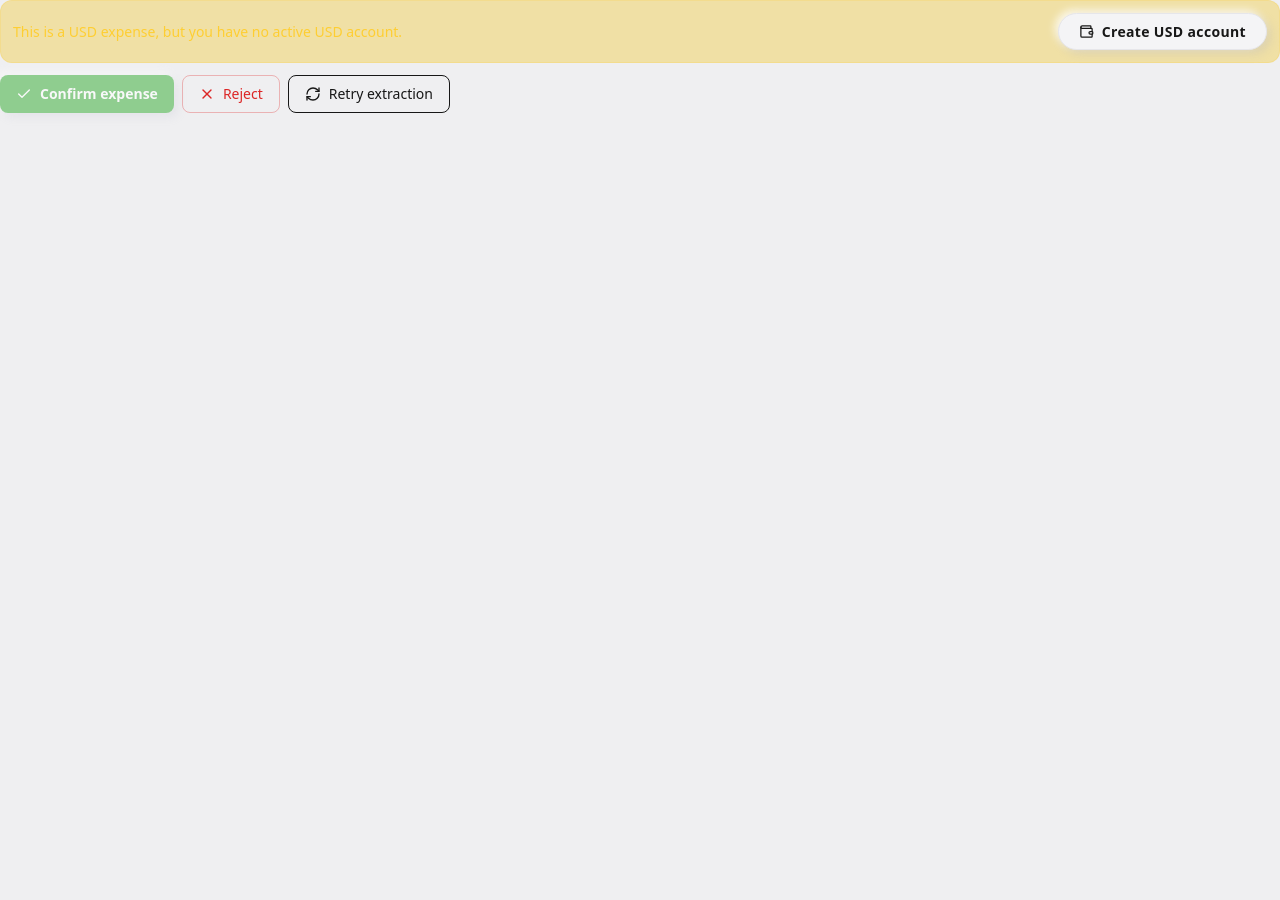
ExtractionReviewActions inline account creation › prefills the account form and locks the known currency
Click the button "Create USD account".
click(1162, 32)  # box [1058,13,1267,50]
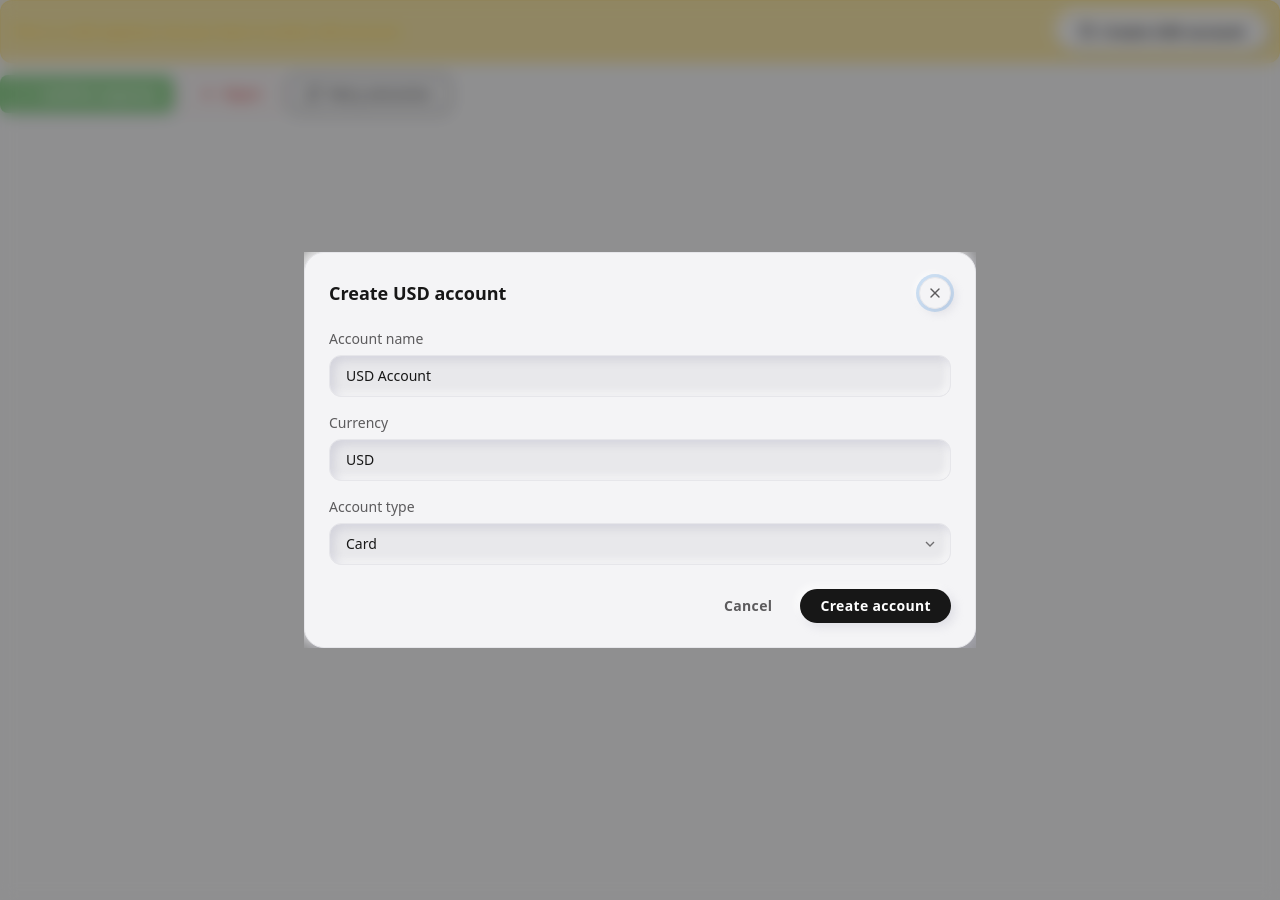
Result: the field labelled "Account name" holds "USD Account" at [329,355,951,397]
Result: the field labelled "Currency" holds "USD" at [329,439,951,481]
Result: the field labelled "Currency" is disabled at [329,439,951,481]
